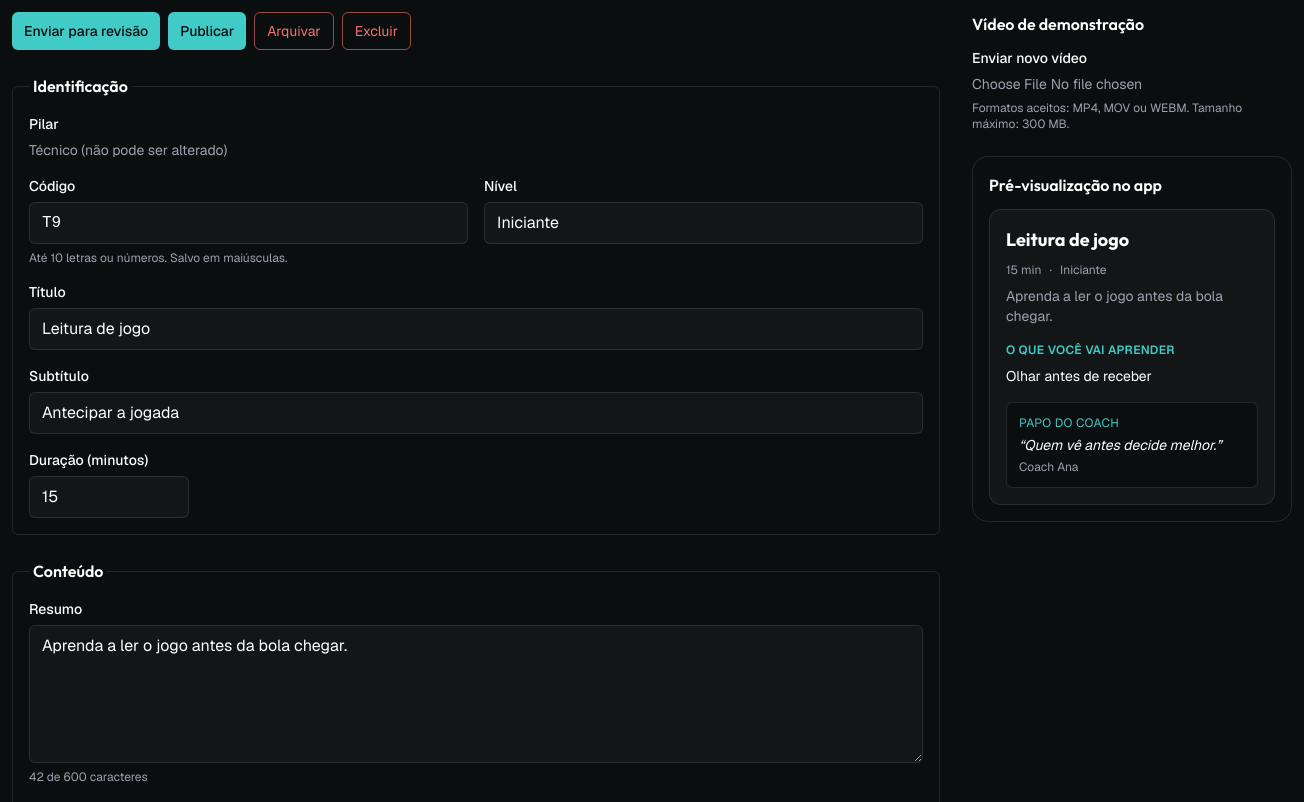
it: TrainingEditor: prévia mobile ao vivo (B5) › atualiza a prévia enquanto o formulário é editado
Expected: the heading "Leitura de jogo" is shown, [1006,228,1129,251]
Type " avançada" into the field labelled "Título".
click(476, 329); type(" avançada")  # box [29,308,923,350]
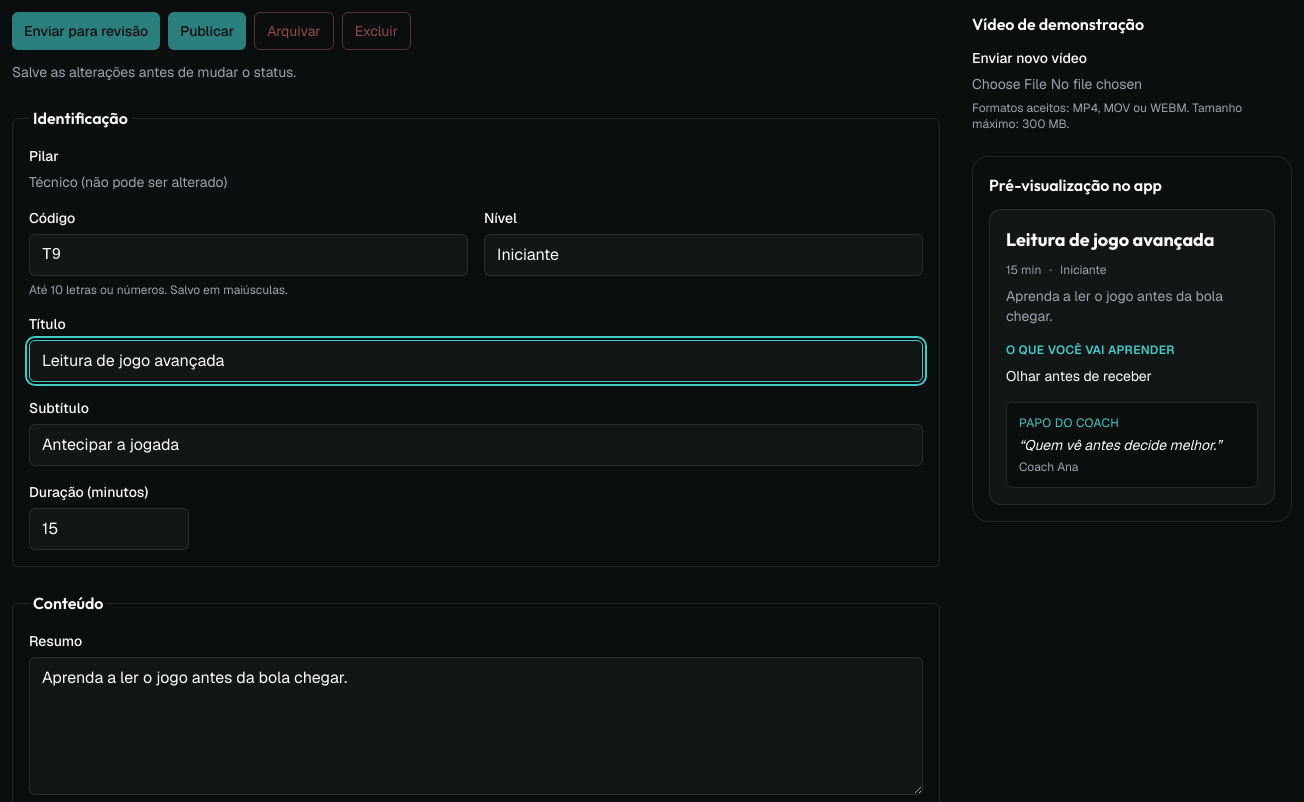
Expected: the heading "Leitura de jogo avançada" is shown, [1006,228,1214,251]
